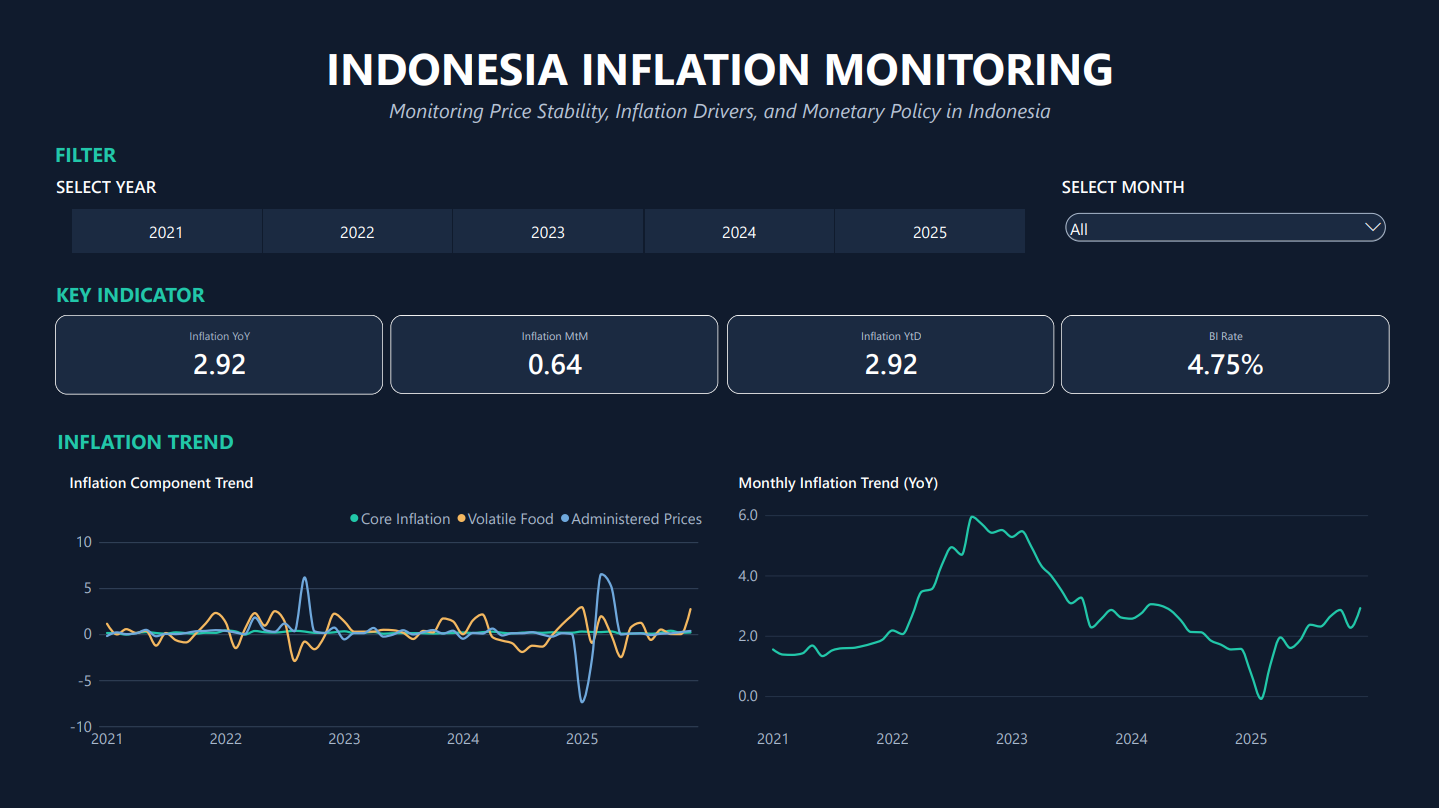

Layout of this report page (visuals, bound fields, positions):
{"tool":"powerbi","page":{"name":"Inflation Overview","canvas":[1920,1080],"ordinal":0},"visuals":[{"type":"textbox","box":[297.5,50,1327.5,132.5],"z":0},{"type":"cardVisual","fields":{"Data":["DateTable.Latest Inflation YoY"]},"box":[74.8,420.5,437.1,105.7],"z":1000},{"type":"cardVisual","fields":{"Data":["DateTable.Latest Inflation MtM"]},"box":[522.3,420.5,436.9,104.4],"z":2000},{"type":"cardVisual","fields":{"Data":["DateTable.Latest Inflation YtD"]},"box":[971.1,420.5,435.6,104.4],"z":3000},{"type":"cardVisual","fields":{"Data":["DateTable.Latest BI Rate"]},"box":[1416.1,420.5,437.5,104.4],"z":4000},{"type":"lineChart","title":"Monthly Inflation Trend (YoY)","fields":{"Category":["Sheet1.Month"],"Y":["Sum(Sheet1.Inflation_YoY)"]},"box":[970,615,882.5,405],"z":5000},{"type":"slicer","title":"SELECT YEAR","fields":{"Values":["DateTable.Year"]},"box":[76.1,233,1311.2,106.2],"z":6000},{"type":"slicer","title":"SELECT MONTH","fields":{"Values":["DateTable.Month Name"]},"box":[1417.3,233,436.2,106.2],"z":7000},{"type":"lineChart","title":"Inflation Component Trend","fields":{"Category":["DateTable.Date"],"Y":["Avg(Sheet1.Core_Inflation)","Avg(Sheet1.Volatile_Food)","Avg(Sheet1.Administered_Prices)"]},"box":[77.5,615,882.5,405],"z":8000},{"type":"textbox","box":[74.8,186.7,1778.6,45.7],"z":9000},{"type":"textbox","box":[76.3,373.7,1778.6,45.7],"z":10000},{"type":"textbox","box":[77.5,570,1778.6,45.7],"z":11000}]}

Visuals, with their boxes in screenshot pixels (x1, y1, x2, y2), scaled from the page's 1920x1080 canvas onto the 1439x808 screenshot:
textbox: 223,37,1218,137
cardVisual - DateTable.Latest Inflation YoY: 56,315,384,394
cardVisual - DateTable.Latest Inflation MtM: 391,315,719,393
cardVisual - DateTable.Latest Inflation YtD: 728,315,1054,393
cardVisual - DateTable.Latest BI Rate: 1061,315,1389,393
"Monthly Inflation Trend (YoY)" lineChart: 727,460,1388,763
"SELECT YEAR" slicer: 57,174,1040,254
"SELECT MONTH" slicer: 1062,174,1389,254
"Inflation Component Trend" lineChart: 58,460,720,763
textbox: 56,140,1389,174
textbox: 57,280,1390,314
textbox: 58,426,1391,461
